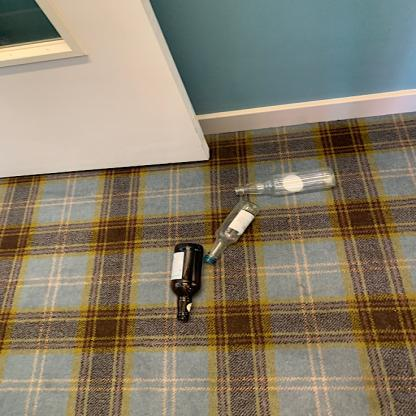trash: (203, 200, 259, 268), (233, 167, 336, 197), (169, 244, 205, 324)
